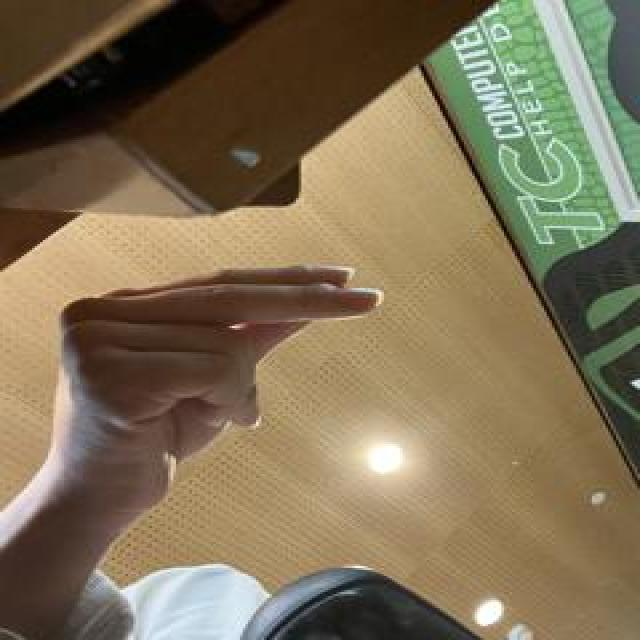H: (20, 261, 393, 511)
